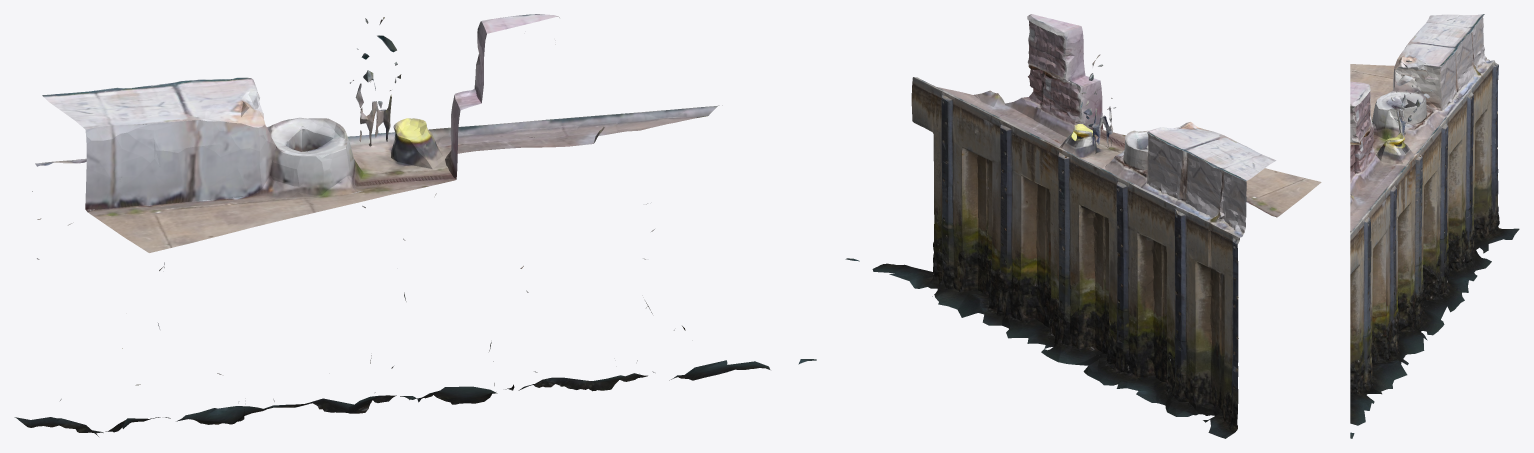
3 views of the same model, side by side, from view 1: azimuth 30°, elevation 25°; view 2: azimuth 150°, elevation 25°; view 3: azimuth 270°, elevation 25° (orthographic). The views are drawn at different scales.
Bounding box in the file's own units: 9.93 × 5.86 × 3.47.
1 material, 1 textured.
